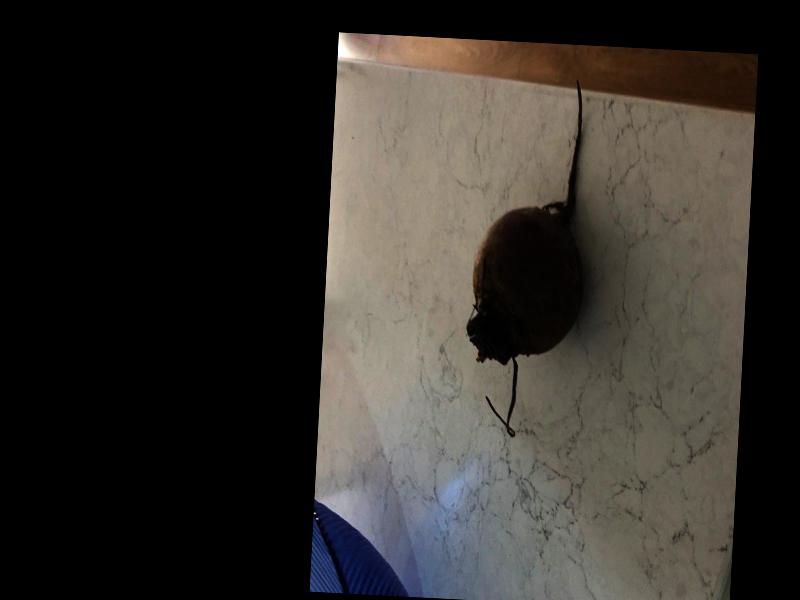Beet: (463, 71, 593, 439)
